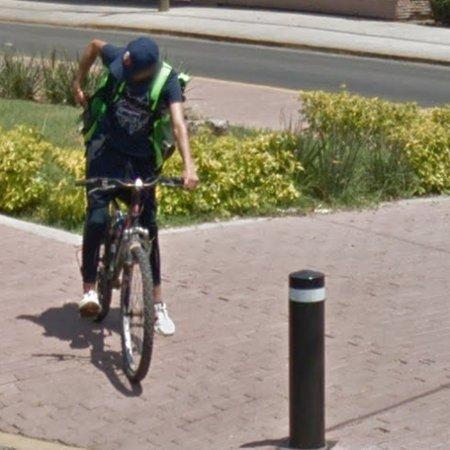bicycles: (121, 245, 155, 382)
